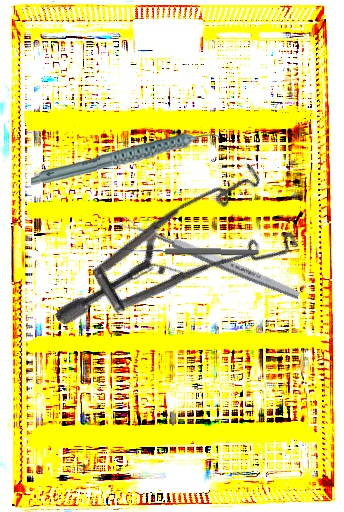Handpiece: (30, 131, 221, 188)
Speculum: (53, 122, 320, 409)
Surgical Spoon: (119, 214, 302, 302), (124, 245, 260, 257)
